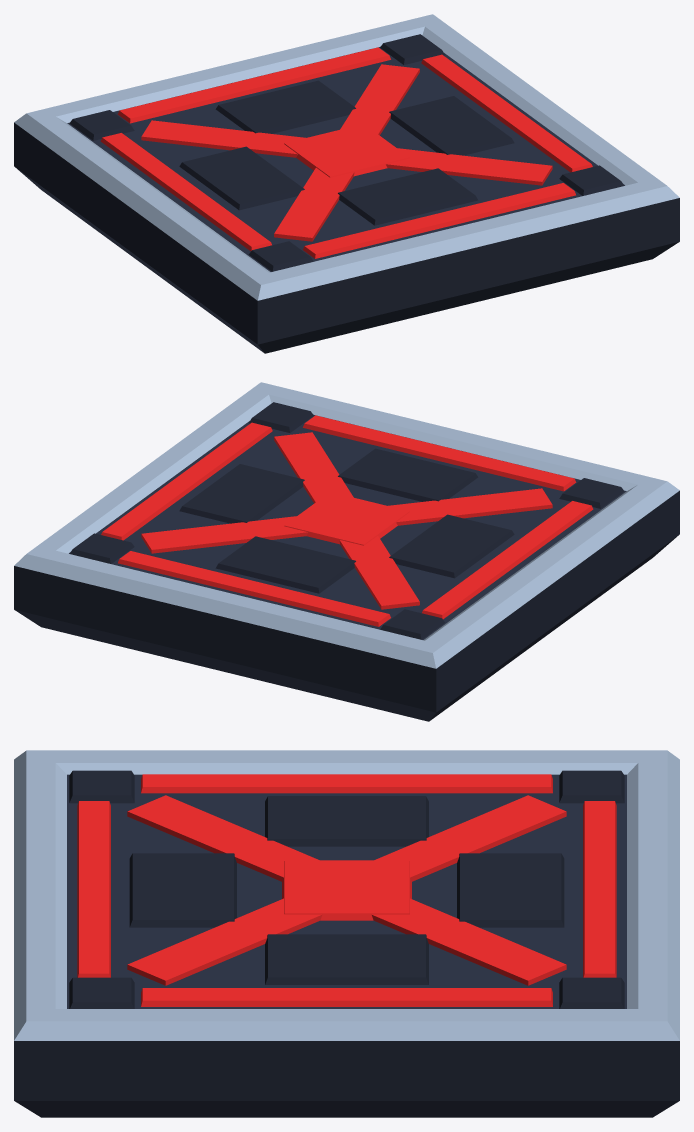
File: SM_ArenaTile_06_RingCollapse.obj
The picture shows the model from 3 angles, top to bottom: view 1: azimuth 30°, elevation 25°; view 2: azimuth 150°, elevation 25°; view 3: azimuth 270°, elevation 25°; orthographic projection. The views are drawn at different scales.
Parts seen in each view (by area): view 1: SM_ArenaTile_06_RingCollapse__MAT_DarkNeutral, SM_ArenaTile_06_RingCollapse__MAT_LightTrim, SM_ArenaTile_06_RingCollapse__EMI_DangerRed, SM_ArenaTile_06_RingCollapse__MAT_AltNeutral; view 2: SM_ArenaTile_06_RingCollapse__MAT_DarkNeutral, SM_ArenaTile_06_RingCollapse__MAT_LightTrim, SM_ArenaTile_06_RingCollapse__EMI_DangerRed, SM_ArenaTile_06_RingCollapse__MAT_AltNeutral; view 3: SM_ArenaTile_06_RingCollapse__MAT_DarkNeutral, SM_ArenaTile_06_RingCollapse__MAT_LightTrim, SM_ArenaTile_06_RingCollapse__EMI_DangerRed, SM_ArenaTile_06_RingCollapse__MAT_AltNeutral.
Part boxes in pixels (bbox=[...]): SM_ArenaTile_06_RingCollapse__MAT_DarkNeutral: bbox=[14, 34, 679, 353]; SM_ArenaTile_06_RingCollapse__MAT_LightTrim: bbox=[14, 14, 679, 300]; SM_ArenaTile_06_RingCollapse__EMI_DangerRed: bbox=[100, 47, 592, 258]; SM_ArenaTile_06_RingCollapse__MAT_AltNeutral: bbox=[67, 46, 624, 271]; SM_ArenaTile_06_RingCollapse__MAT_DarkNeutral: bbox=[14, 402, 679, 721]; SM_ArenaTile_06_RingCollapse__MAT_LightTrim: bbox=[14, 382, 679, 668]; SM_ArenaTile_06_RingCollapse__EMI_DangerRed: bbox=[101, 415, 593, 626]; SM_ArenaTile_06_RingCollapse__MAT_AltNeutral: bbox=[69, 414, 626, 639]; SM_ArenaTile_06_RingCollapse__MAT_DarkNeutral: bbox=[14, 770, 679, 1117]; SM_ArenaTile_06_RingCollapse__MAT_LightTrim: bbox=[14, 750, 679, 1040]; SM_ArenaTile_06_RingCollapse__EMI_DangerRed: bbox=[77, 774, 616, 1006]; SM_ArenaTile_06_RingCollapse__MAT_AltNeutral: bbox=[67, 774, 626, 1008].
Bounding box in the file's own units: 11.8 × 2 × 11.8.
Materials: 4 (4 with a texture image).
